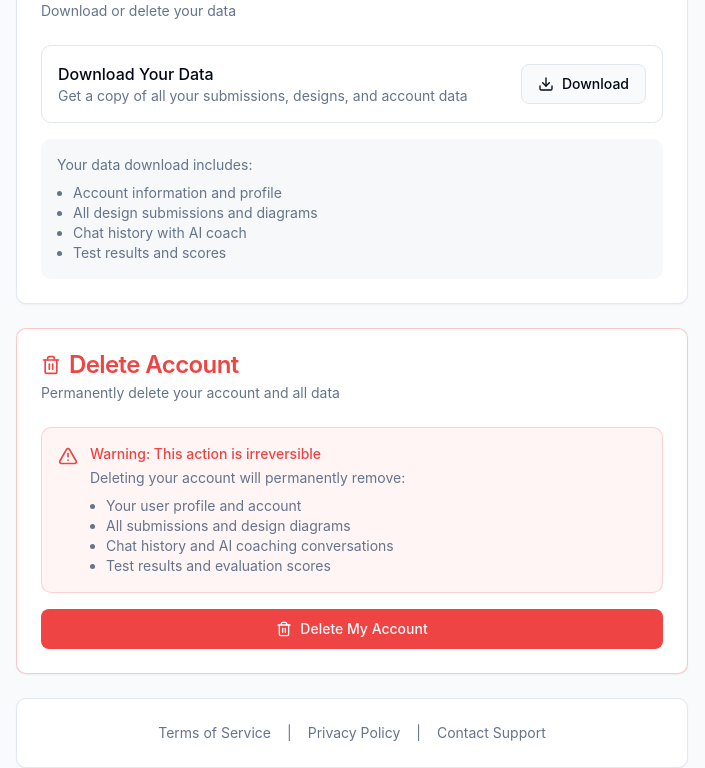
Scenario: AccountSettings › Delete account functionality › shows loading state during deletion
The image size is (705, 768).
(page scrolled)
Click the button "Delete My Account".
click(352, 629)  # box [41,609,663,649]
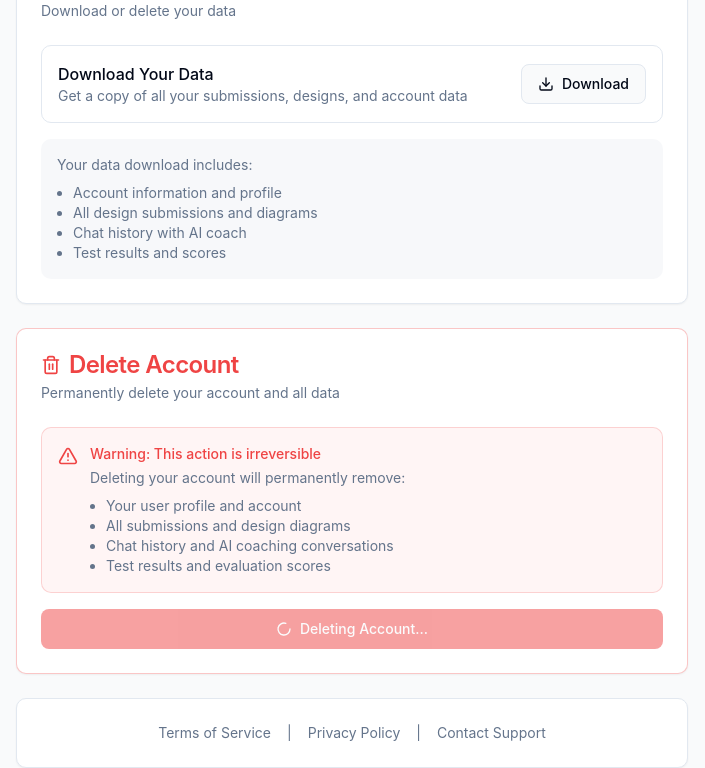
Expected: the button "Deleting Account..." is shown, [41,609,663,649]
